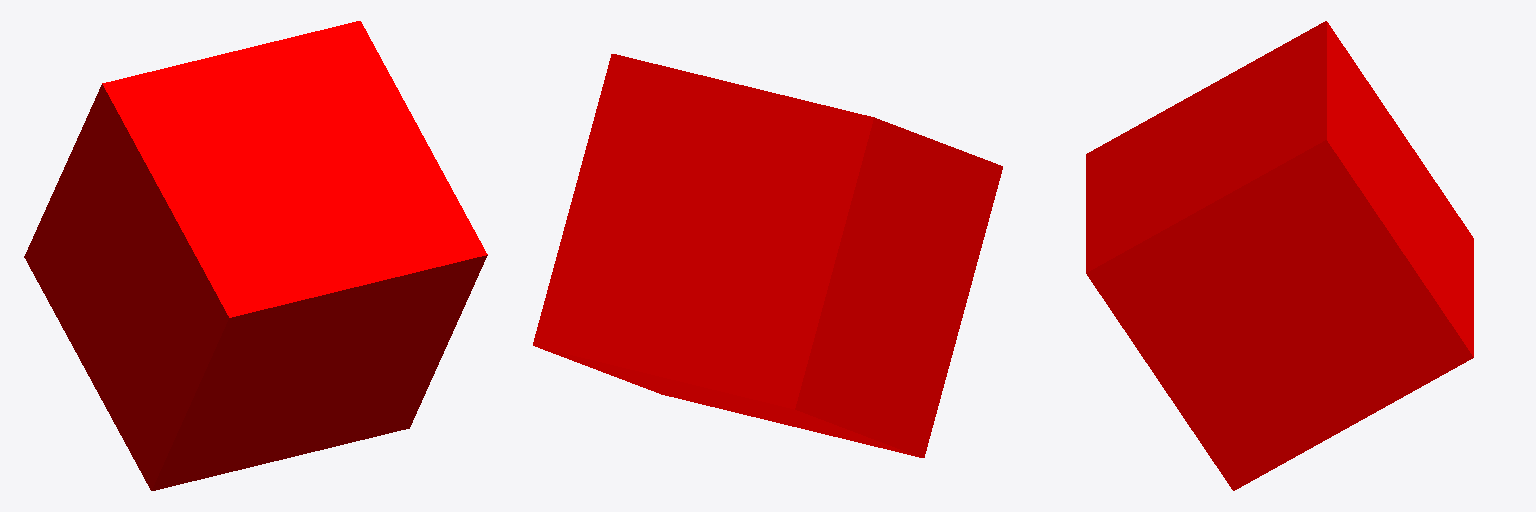
The robot description file, URDF, robot "bookshelf":
<?xml version="1.0" encoding="utf-8"?>
<robot name="bookshelf">

  <link name="base_link">

    <inertial>
      <origin xyz="0 0 0.675" rpy="0 0 0"/>
      <mass value="18.0"/>
      <inertia ixx="3.645" ixy="0.0" ixz="0.0"
               iyy="4.374" iyz="0.0"
               izz="0.972"/>
    </inertial>

    <visual>
      <origin xyz="0 0 0" rpy="0 0 0"/>
      <geometry>
        <mesh filename="package://agibot_x2_pkg/meshes/bookshelf.glb"/>
      </geometry>
    </visual>

    <collision>
      <origin xyz="-0.389 0.000 0.675" rpy="0 0 0"/>
      <geometry><box size="0.022 0.300 1.350"/></geometry>
    </collision>

    <collision>
      <origin xyz="0.389 0.000 0.675" rpy="0 0 0"/>
      <geometry><box size="0.022 0.300 1.350"/></geometry>
    </collision>

    <collision>
      <origin xyz="0.000 -0.139 0.675" rpy="0 0 0"/>
      <geometry><box size="0.756 0.022 1.350"/></geometry>
    </collision>

    <collision>
      <origin xyz="0.000 0.011 0.011" rpy="0 0 0"/>
      <geometry><box size="0.756 0.278 0.022"/></geometry>
    </collision>

    <collision>
      <origin xyz="0.000 0.011 0.338" rpy="0 0 0"/>
      <geometry><box size="0.756 0.278 0.022"/></geometry>
    </collision>

    <collision>
      <origin xyz="0.000 0.011 0.660" rpy="0 0 0"/>
      <geometry><box size="0.756 0.278 0.022"/></geometry>
    </collision>

    <collision>
      <origin xyz="0.000 0.011 0.982" rpy="0 0 0"/>
      <geometry><box size="0.756 0.278 0.022"/></geometry>
    </collision>

    <collision>
      <origin xyz="0.000 0.011 1.339" rpy="0 0 0"/>
      <geometry><box size="0.756 0.278 0.022"/></geometry>
    </collision>

  </link>

  <gazebo>
    <static>true</static>
  </gazebo>

  <gazebo reference="base_link">
    <mu1>0.5</mu1> 
    <mu2>0.5</mu2>
    <kp>1e6</kp>
    <kd>100.0</kd>
  </gazebo>

  <link name="shelf_camera_link">
    <inertial>
      <origin xyz="0 0 0" rpy="0 0 0"/>
      <mass value="0.001"/>
      <inertia ixx="1e-6" ixy="0" ixz="0" iyy="1e-6" iyz="0" izz="1e-6"/>
    </inertial>
    <visual>
      <origin xyz="0 0 0" rpy="0 0 0"/>
      <geometry><box size="0.02 0.02 0.02"/></geometry>
      <material name="red"><color rgba="1 0 0 1"/></material>
    </visual>
  </link>
  <joint name="shelf_camera_joint" type="fixed">
    <origin xyz="-0.16 0.75 1.50" rpy="0 0.55 -1.5707963"/>
    <parent link="base_link"/>
    <child link="shelf_camera_link"/>
  </joint>

</robot>

--- Render facts (derived) ---
The picture shows the robot from 3 angles, left to right: view 1: azimuth 30°, elevation 25°; view 2: azimuth 150°, elevation 25°; view 3: azimuth 270°, elevation 25°; orthographic projection.
Model bookshelf with 2 links and 1 joints (1 fixed), rooted at base_link, posed all joints at 0.
Links seen in each view (by area): view 1: shelf_camera_link; view 2: shelf_camera_link; view 3: shelf_camera_link.
Boxes of the visible links, bbox=[...] form: shelf_camera_link: bbox=[24, 21, 487, 490]; shelf_camera_link: bbox=[533, 54, 1002, 457]; shelf_camera_link: bbox=[1086, 21, 1473, 490].
Bounding box of the posed robot: 0.02 × 0.0275 × 0.0275 m (x, y, z).
0 mesh visuals loaded from 1 distinct referenced files (none loaded); not drawn: 1 (reference not matched to a file when rendering).
